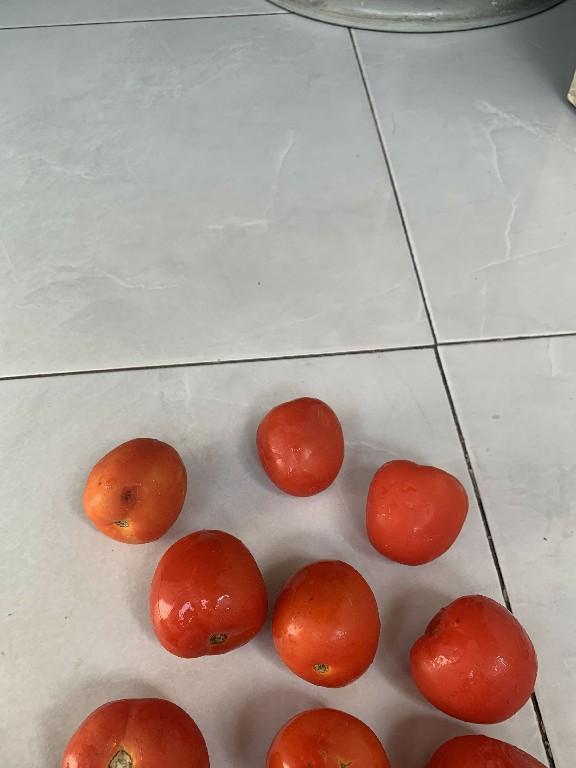NG: (83, 433, 184, 540)
OK: (407, 596, 545, 730), (268, 552, 385, 687), (150, 529, 265, 654), (355, 451, 467, 566), (247, 389, 347, 500)
